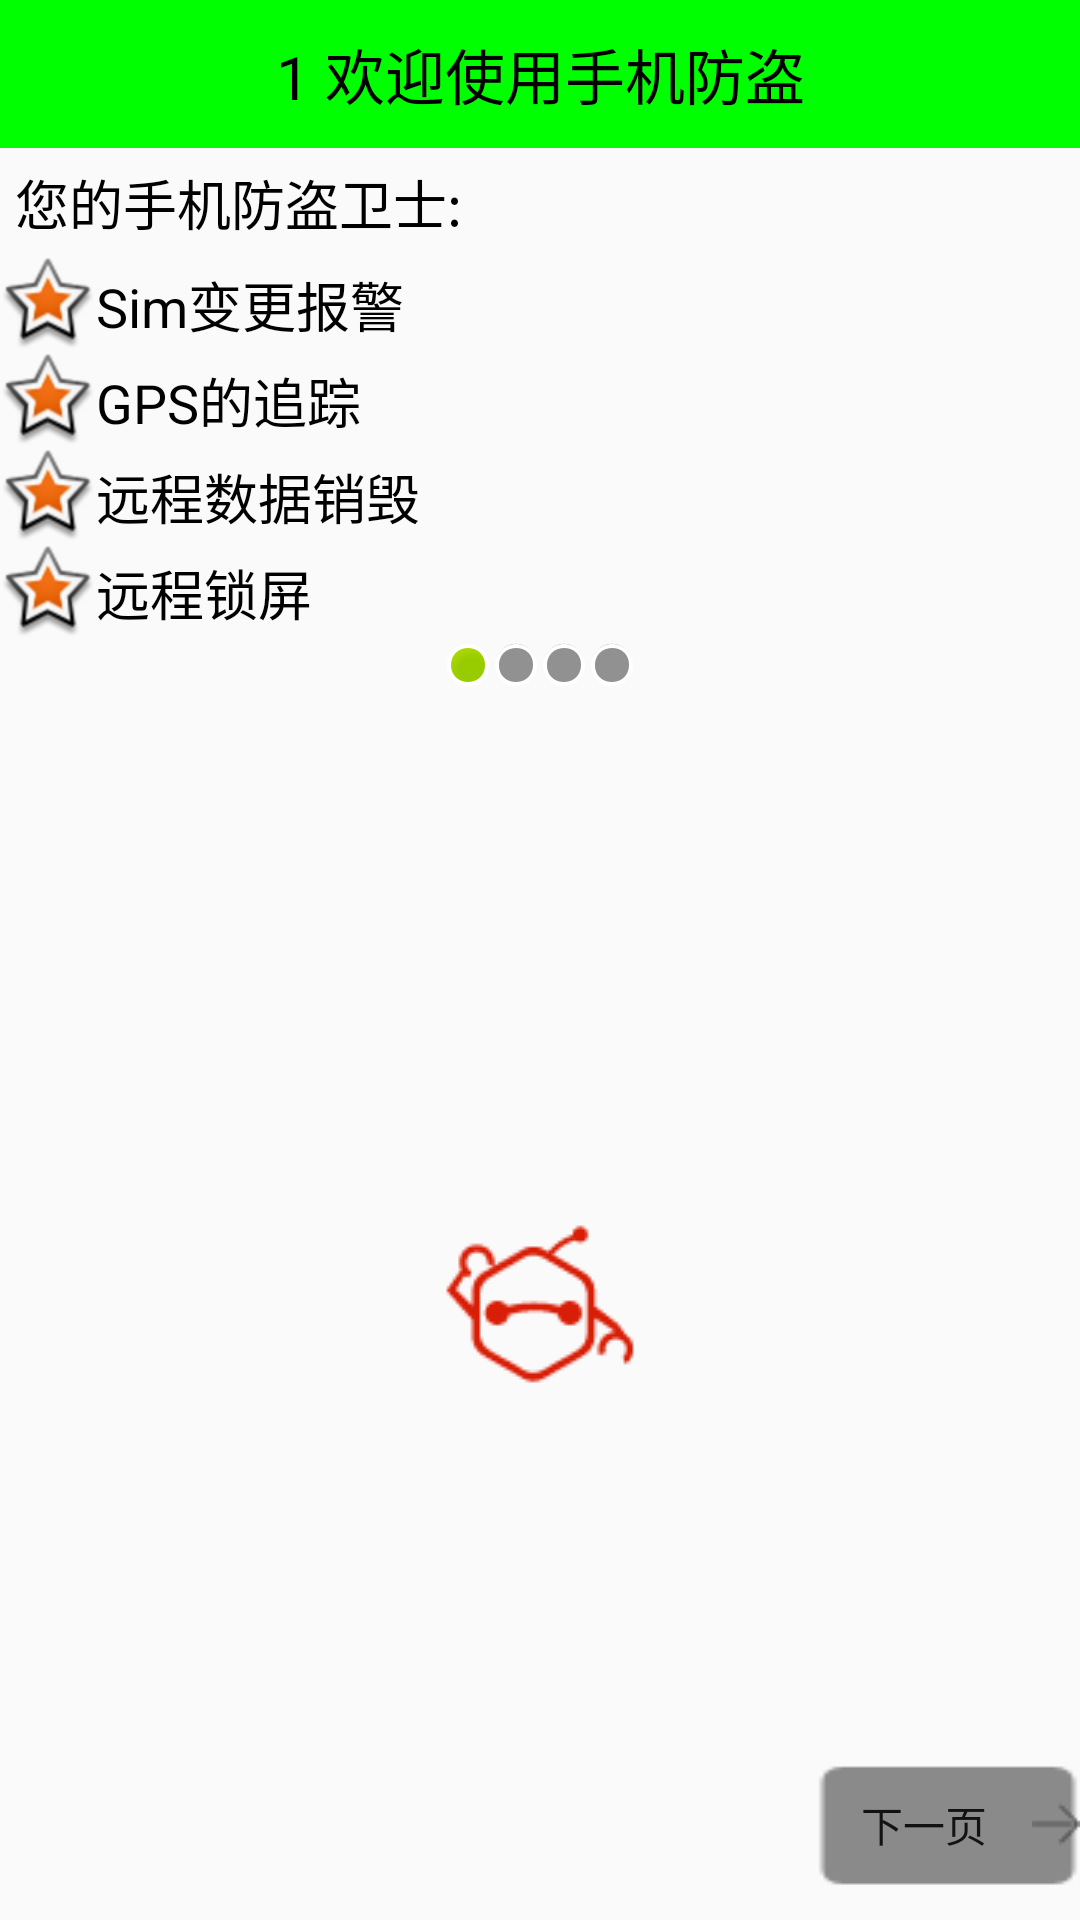

Icon bounding boxes for this 1080 × 1920 phone screenshot, format rect(x1, y1, x2, y2):
presence invisible: rect(499, 644, 533, 682), rect(547, 644, 581, 682), rect(595, 644, 629, 682)
presence online: rect(451, 648, 485, 682)
